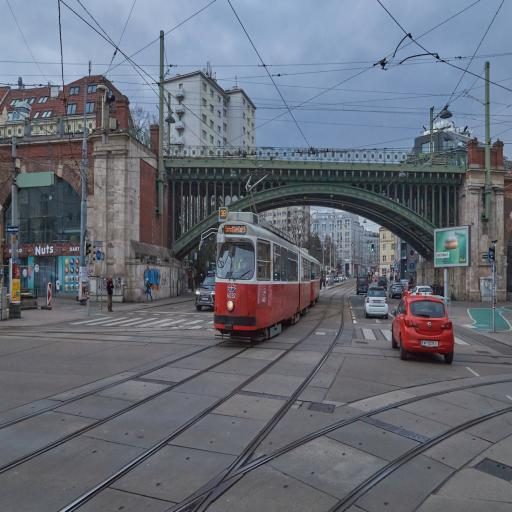E2-Tram: (212, 206, 320, 334)
